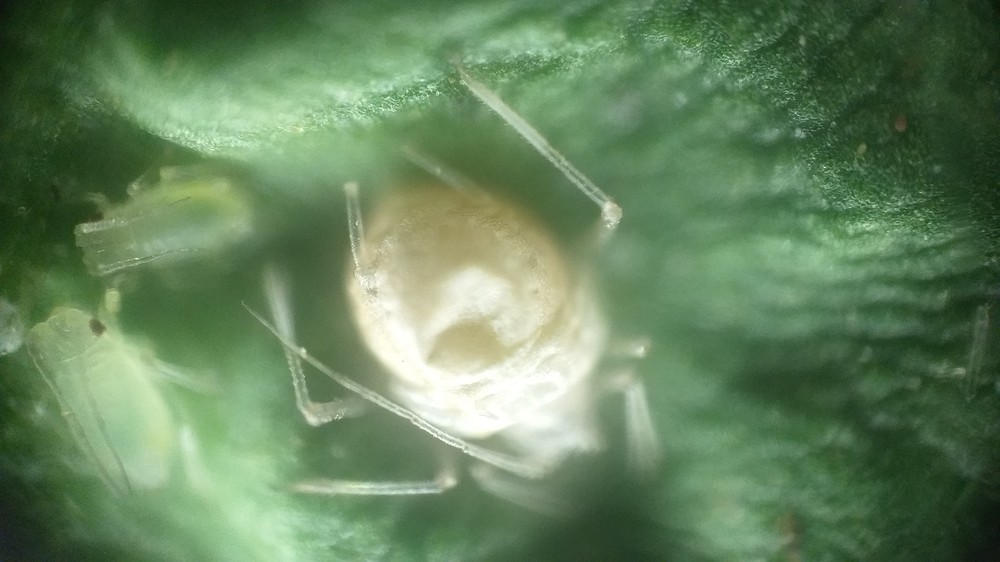Pulgon: (257, 95, 715, 517), (24, 293, 231, 515), (50, 150, 285, 293)
